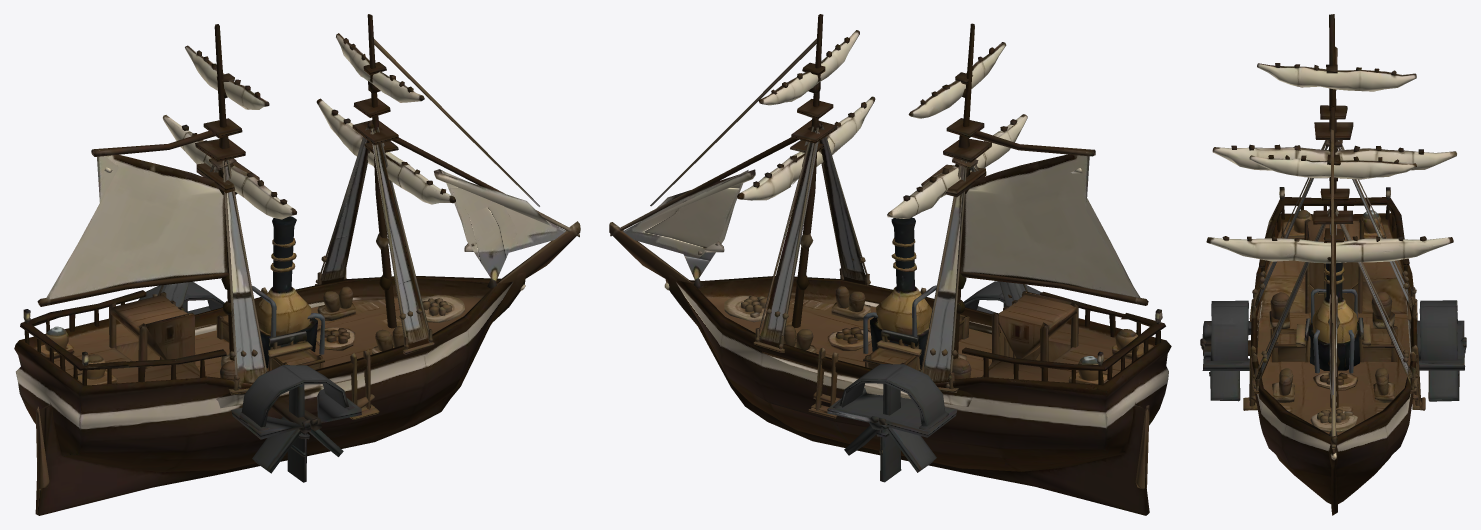
File: Last_Ship.glb
3 renders of one model, left to right at view 1: azimuth 30°, elevation 25°; view 2: azimuth 150°, elevation 25°; view 3: azimuth 270°, elevation 25°, orthographic. The views are drawn at different scales.
Parts seen in each view (by area): view 1: Last_Ship; view 2: Last_Ship; view 3: Last_Ship.
Part boxes in pixels (<box>): Last_Ship: <box>14,14,580,515</box>; Last_Ship: <box>609,14,1171,515</box>; Last_Ship: <box>1200,14,1466,515</box>.
Bounding box in the file's own units: 16 × 12.89 × 7.5.
1 material, 1 textured.
